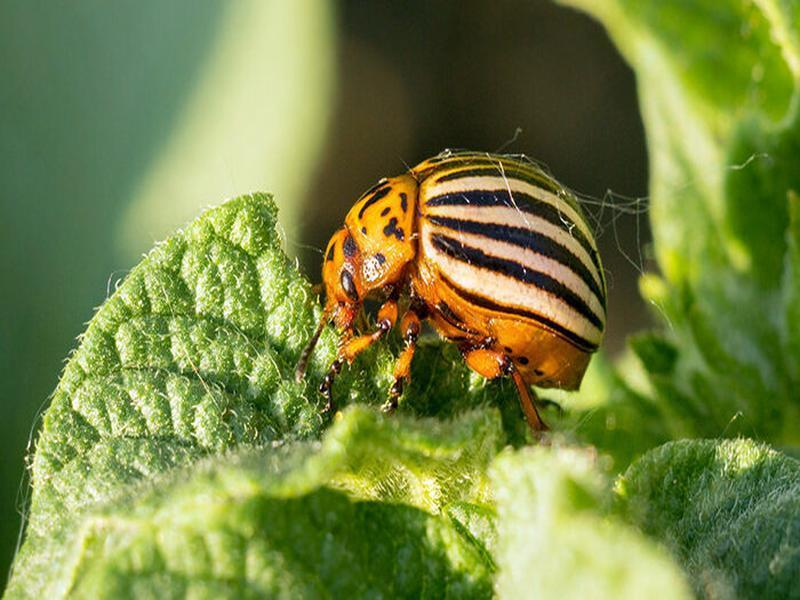hrosc: (312, 138, 616, 411)
